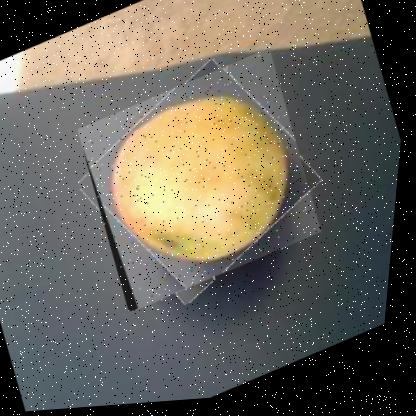mango: (65, 48, 340, 323)
